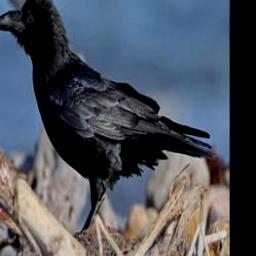Crow: (0, 0, 216, 242)
